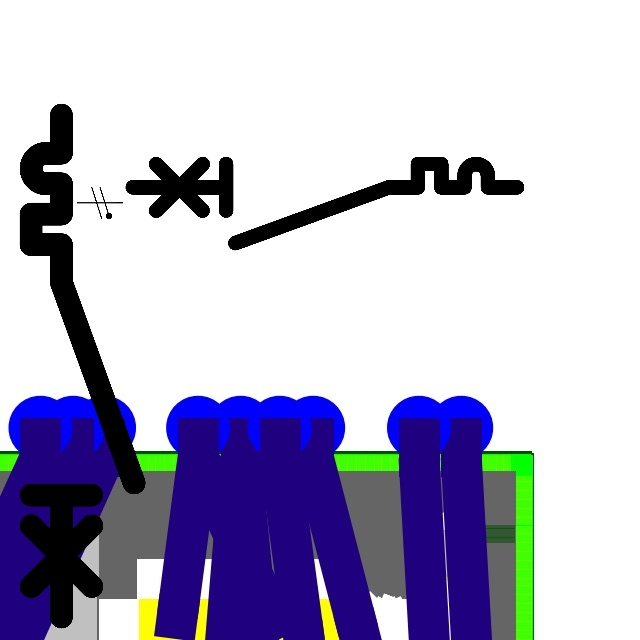interruptor_termomagnetico: (18, 102, 147, 630), (122, 154, 526, 253)
